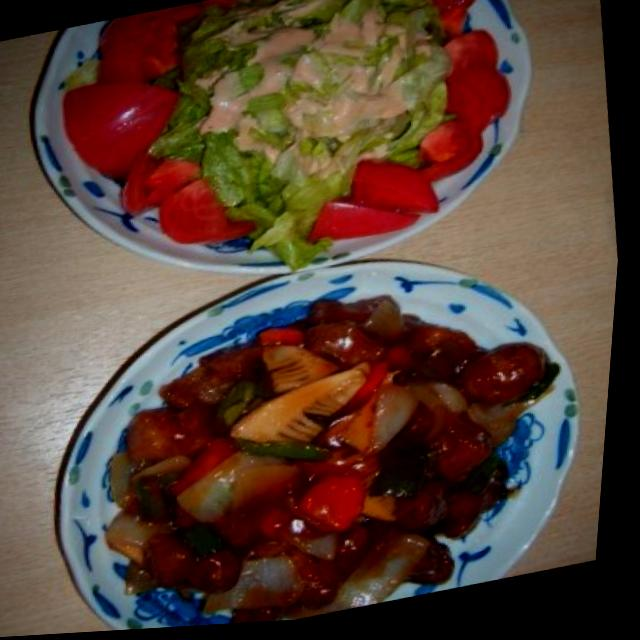猪肉菜式: (89, 255, 605, 634)
蔬菜料理: (9, 0, 584, 336)
